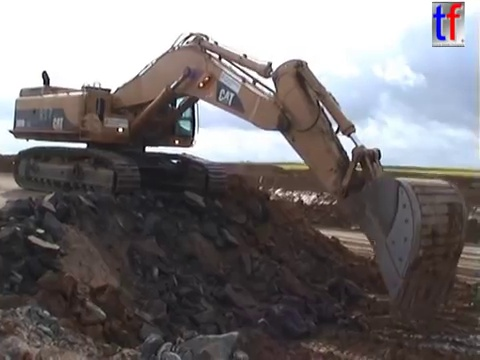excavator: (6, 29, 469, 325)
